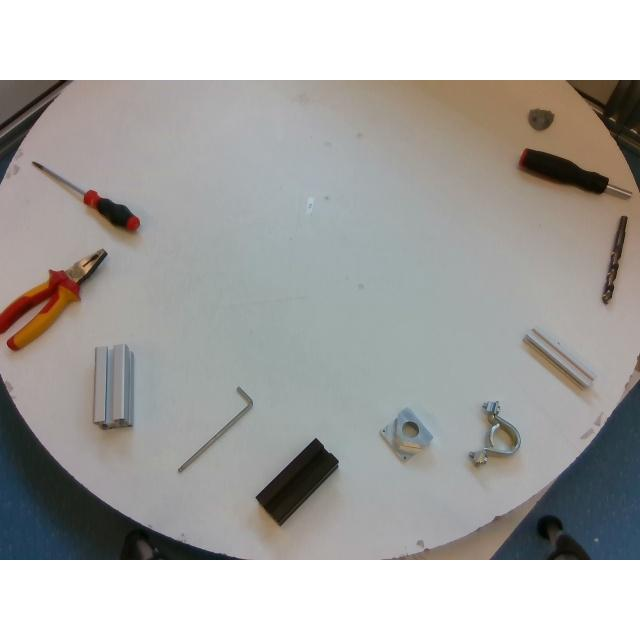Drill: (601, 216, 627, 304)
F20_20_G: (522, 328, 594, 388)
Housing: (469, 401, 521, 465)
S40_40_B: (256, 440, 338, 524)
S40_40_G: (93, 344, 133, 426)
